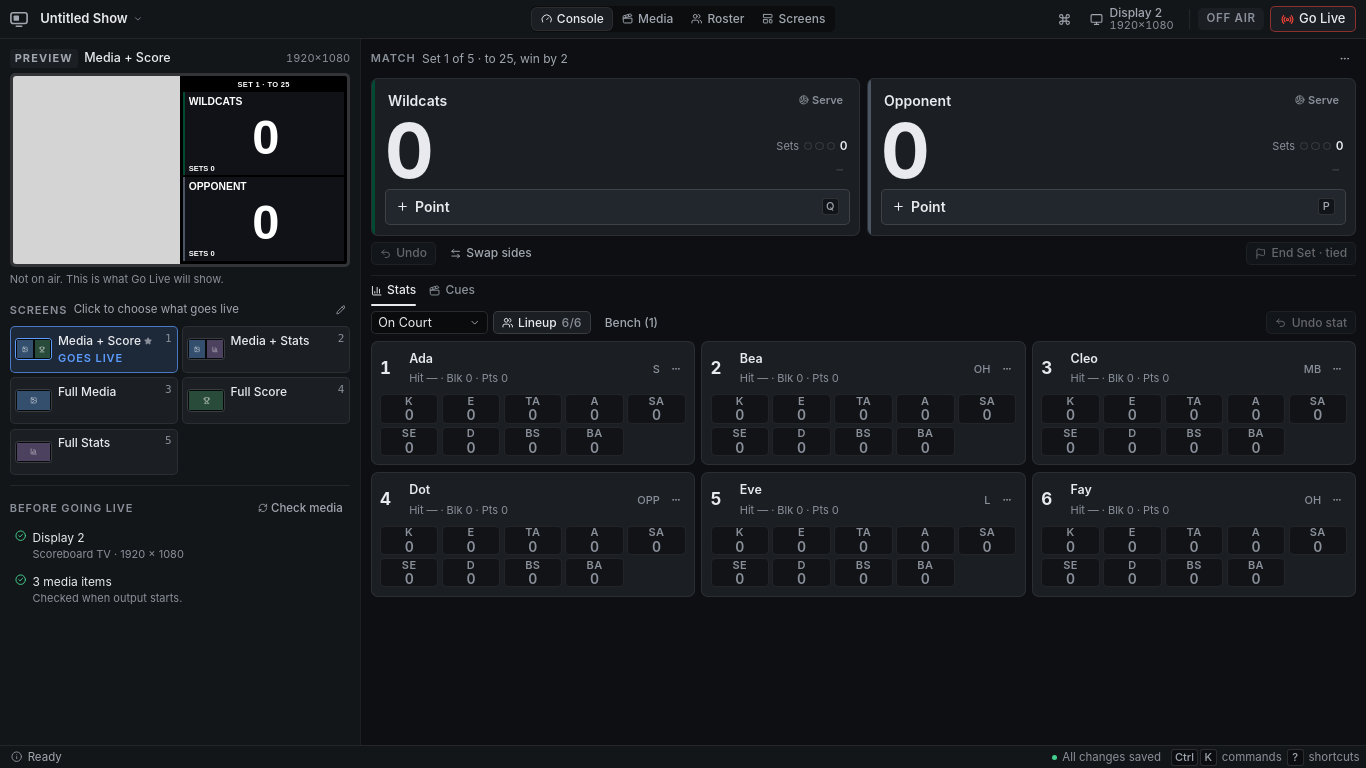
Test: taking output live › closes the hidden window and stays OFF AIR when the Screen never mounts
Click the button "Go Live".
click(1313, 19)  # box [1270, 6, 1356, 32]
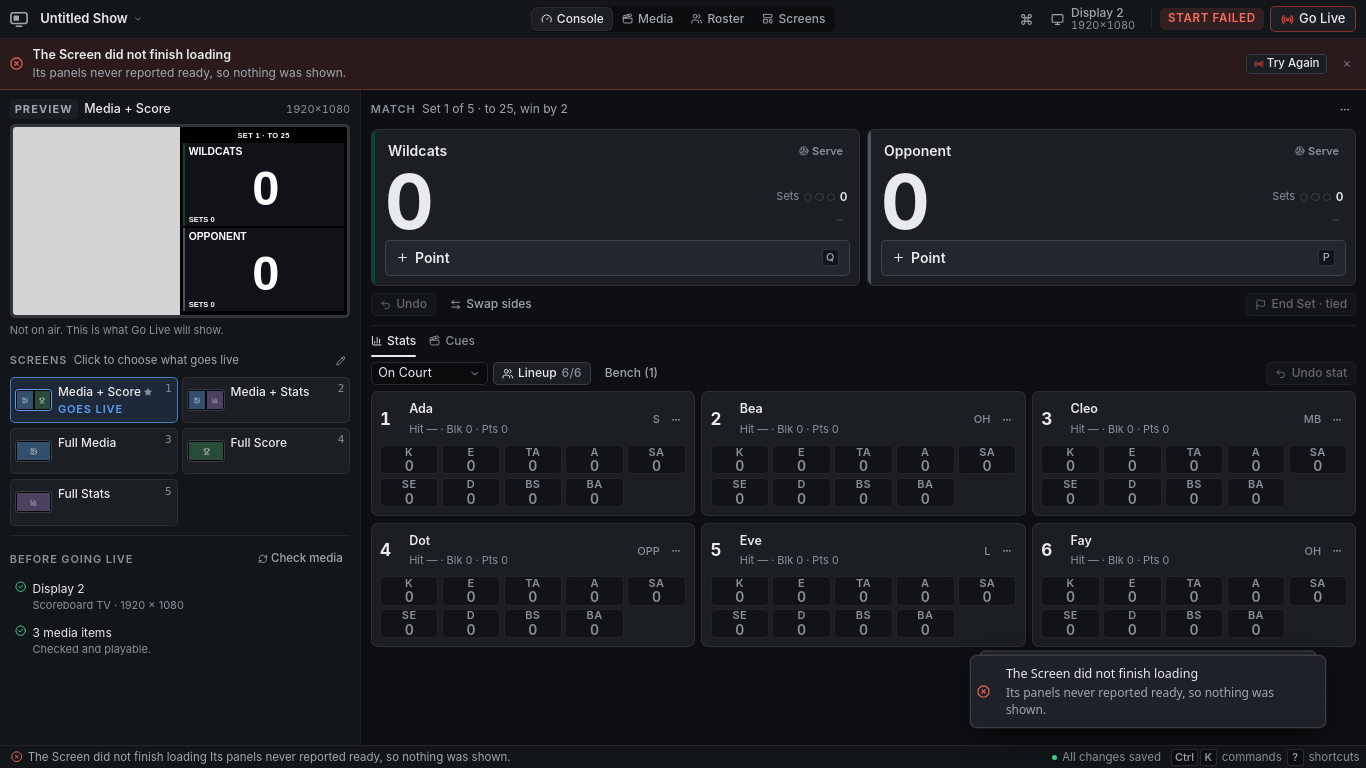
Expected: the message that starts with "The Screen did not finish loading" is shown, [32, 46, 231, 62]
Expected: the message named "Off air" reads "START FAILED", [1168, 11, 1256, 25]
